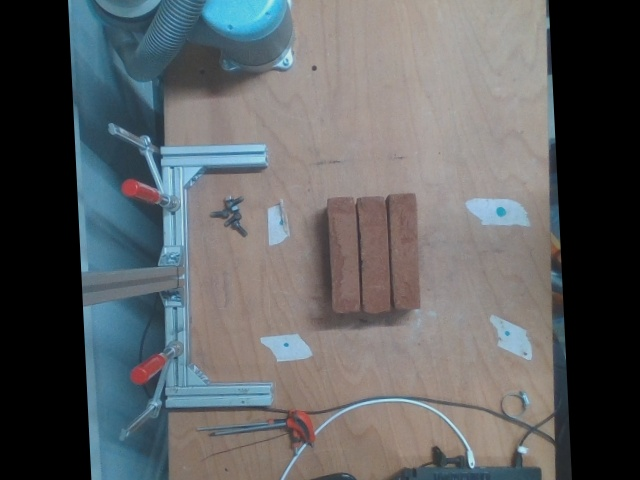brick-side: (355, 196, 390, 316), (328, 196, 363, 316), (387, 194, 421, 314)
